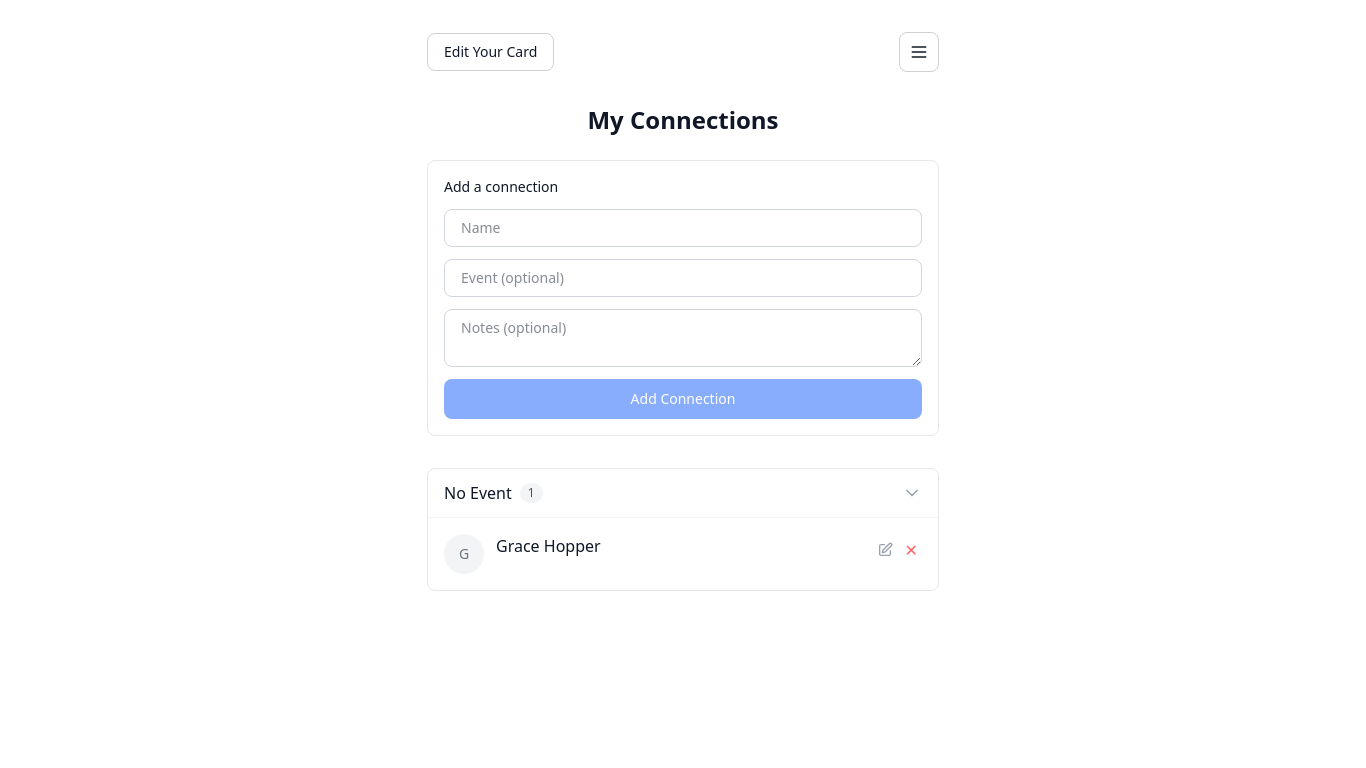
Test: ConnectionsPage › opens the edit modal from the pencil button and saves changes
expect the text "Grace Hopper" is shown: met, box [496,535,601,557]
Click the button named "Edit connection with Grace Hopper" at {"x": 885, "y": 550}, box [873,538,897,562]
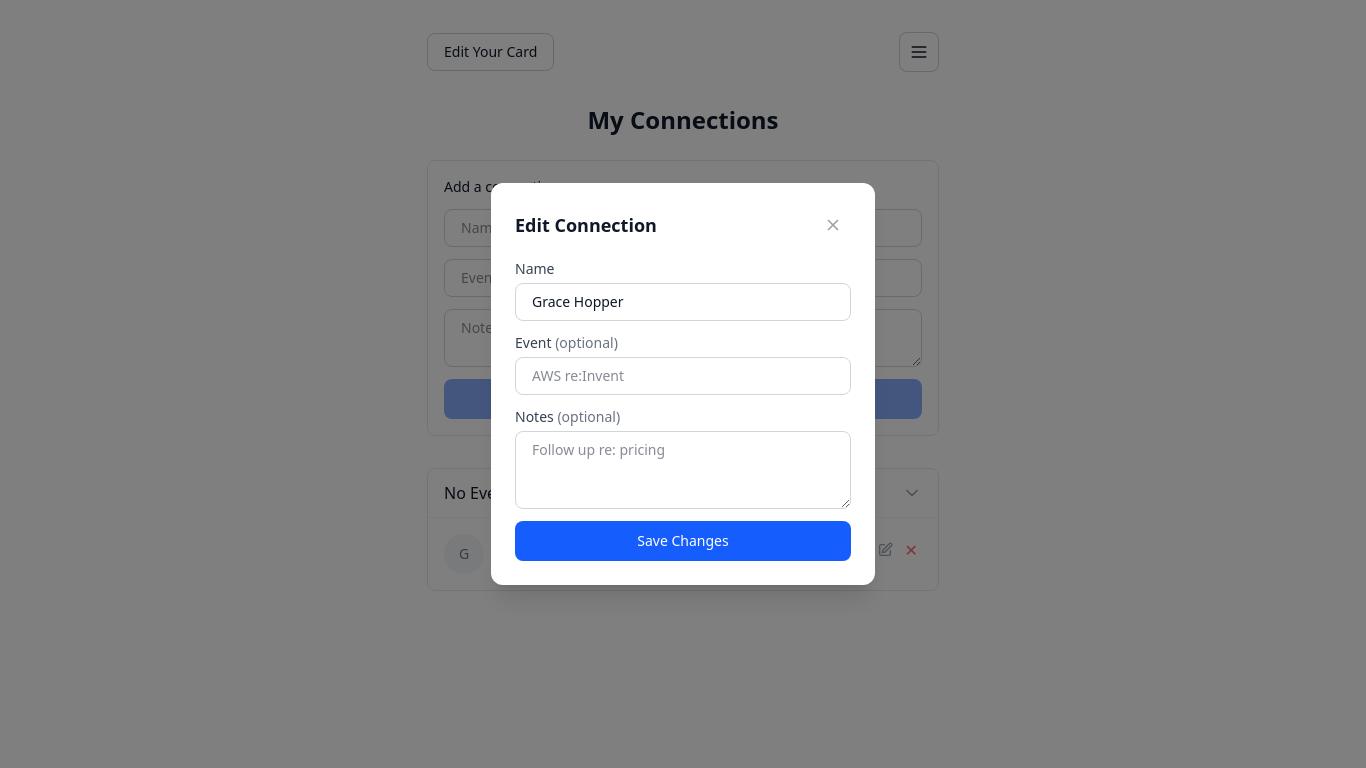
expect the dialog "Edit Connection" is shown: met
Replace the text in the field labelled "Name" with "Grace M. Hopper" at {"x": 683, "y": 302}, box [515,283,851,321]
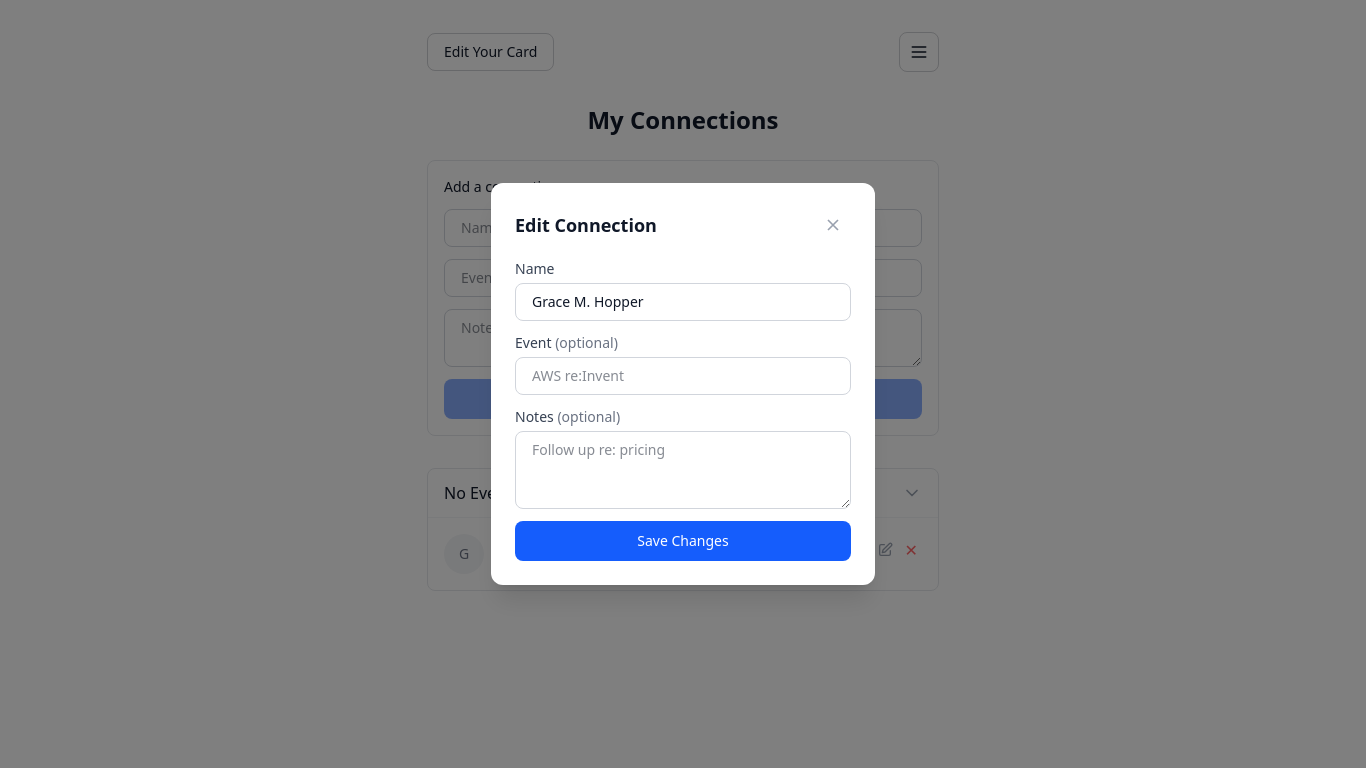
Click the button "Save Changes" at {"x": 683, "y": 541}, box [515,521,851,561]
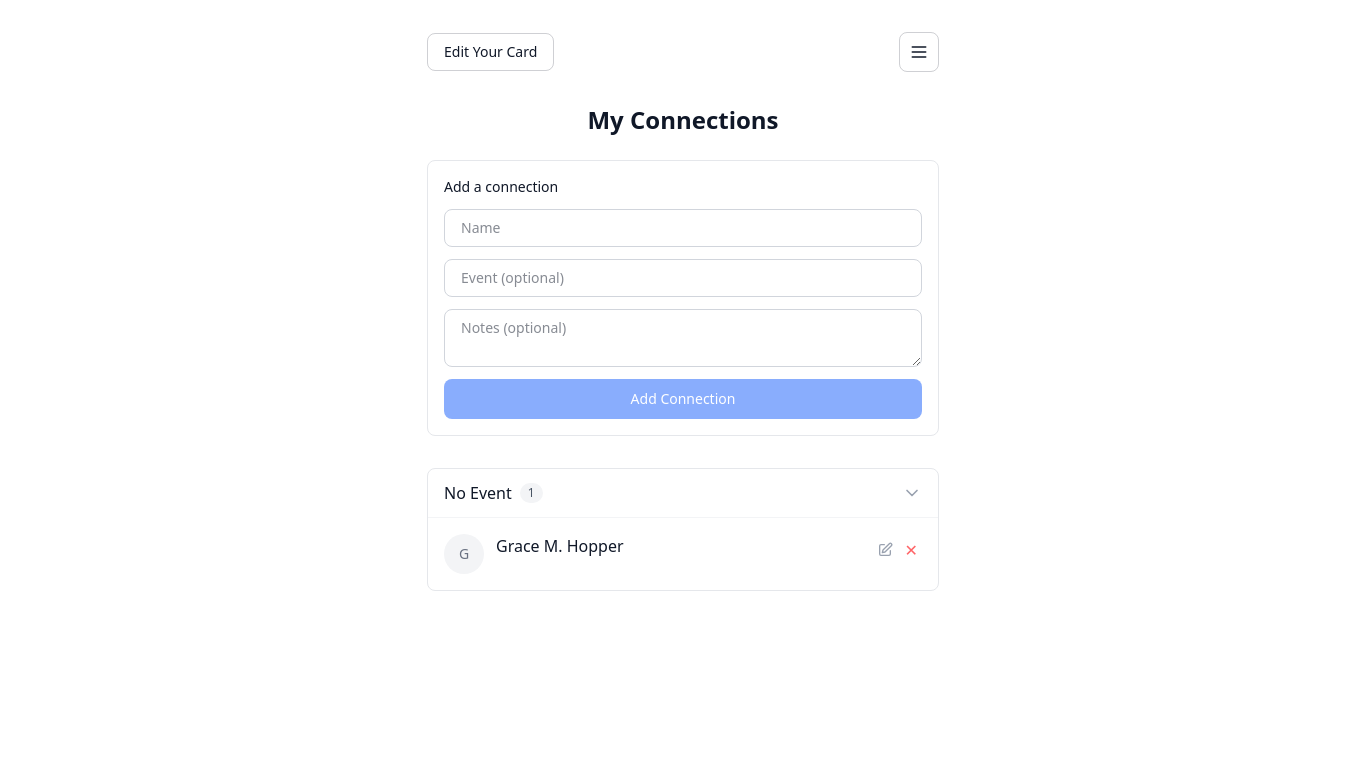
expect the text "Grace M. Hopper" is shown: met, box [496,535,624,557]
